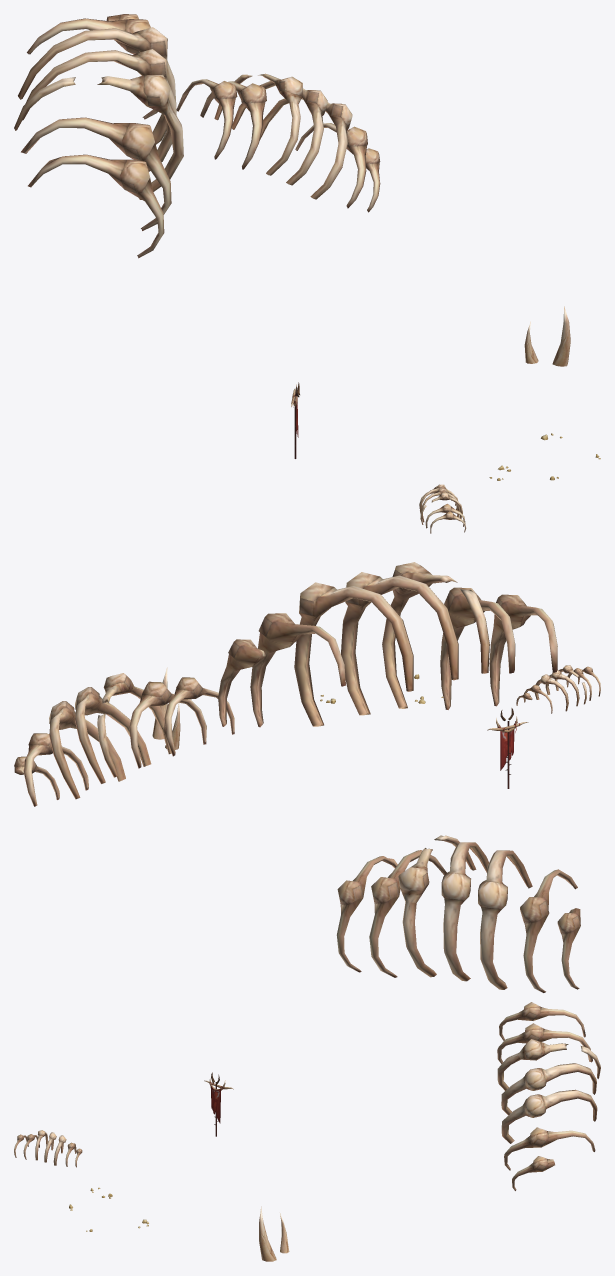
Rendered from area_13_8.FBX.
3 renders of one model, top to bottom at view 1: azimuth 30°, elevation 25°; view 2: azimuth 150°, elevation 25°; view 3: azimuth 270°, elevation 25°, orthographic. The views are drawn at different scales.
Visible parts, largest first — view 1: area_13_8; view 2: area_13_8; view 3: area_13_8.
Boxes of the visible parts, x1=… form: area_13_8: x1=14, y1=14, x2=600, y2=533; area_13_8: x1=14, y1=562, x2=600, y2=806; area_13_8: x1=14, y1=835, x2=600, y2=1261.
Bounding box in the file's own units: 39.6 × 26.14 × 51.53.
